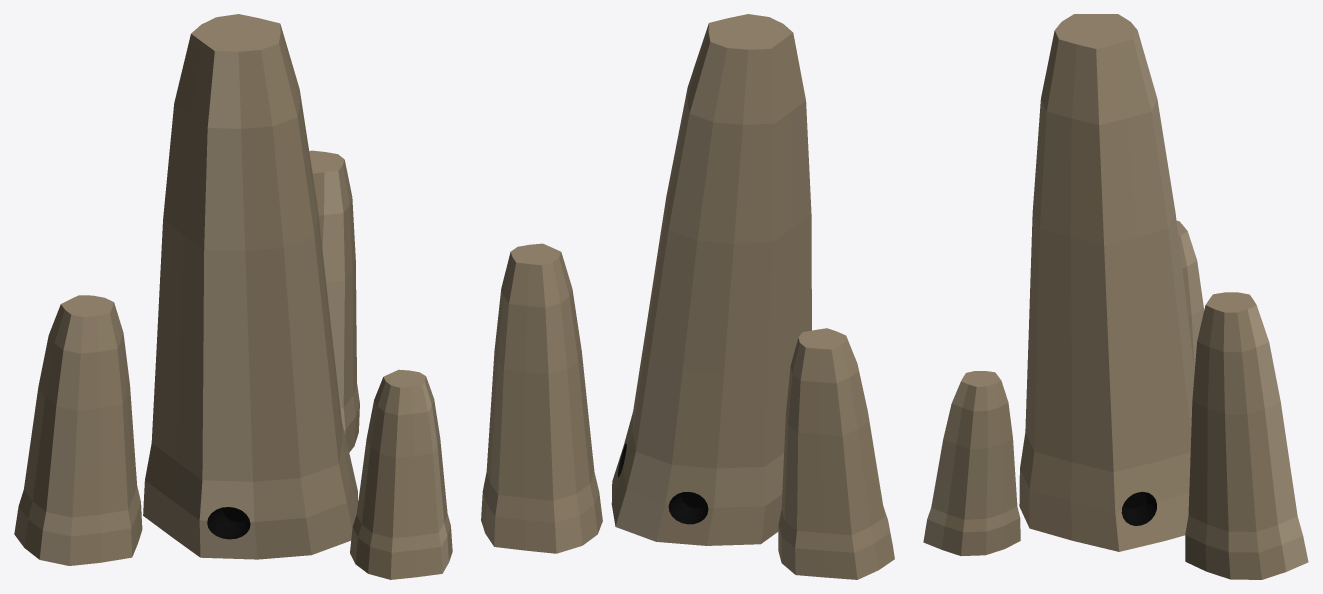
File: SM_SpireColony_0.fbx
3 renders of one model, left to right at view 1: azimuth 30°, elevation 25°; view 2: azimuth 150°, elevation 25°; view 3: azimuth 270°, elevation 25°, orthographic. The views are drawn at different scales.
Visible parts, largest first — view 1: SM_SpireColony_0; view 2: SM_SpireColony_0; view 3: SM_SpireColony_0.
Part boxes in pixels (x1,y1,x2,y2): SM_SpireColony_0: [14, 14, 452, 579]; SM_SpireColony_0: [481, 14, 894, 579]; SM_SpireColony_0: [923, 14, 1308, 579].
Bounding box in the file's own units: 3.24 × 3.14 × 4.16.
